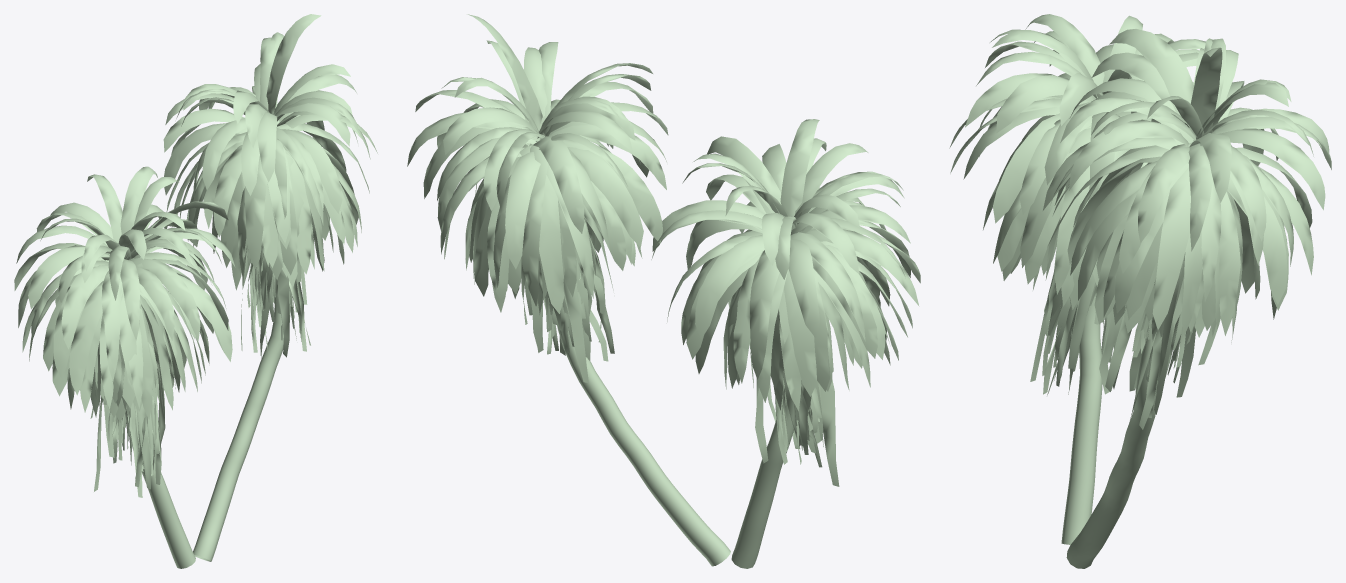
The model's file is palmeras.glb.
3 views of the same model, side by side, from view 1: azimuth 30°, elevation 25°; view 2: azimuth 150°, elevation 25°; view 3: azimuth 270°, elevation 25° (orthographic). The views are drawn at different scales.
Visible parts, largest first — view 1: Leaf_Diffuse.001, Vine_Glos.001, Bark_Diffuse.001; view 2: Leaf_Diffuse.001, Vine_Glos.001, Bark_Diffuse.001; view 3: Leaf_Diffuse.001, Vine_Glos.001, Bark_Diffuse.001.
Boxes of the visible parts, left/top/right/bottom form: Leaf_Diffuse.001: left=14, top=14, right=377, bottom=422; Vine_Glos.001: left=90, top=246, right=310, bottom=497; Bark_Diffuse.001: left=125, top=288, right=290, bottom=568; Leaf_Diffuse.001: left=407, top=14, right=920, bottom=411; Vine_Glos.001: left=521, top=238, right=839, bottom=486; Bark_Diffuse.001: left=540, top=139, right=793, bottom=568; Leaf_Diffuse.001: left=949, top=14, right=1331, bottom=342; Vine_Glos.001: left=1030, top=228, right=1220, bottom=429; Bark_Diffuse.001: left=1061, top=292, right=1156, bottom=568.
Size of the model in its own units: 3.61 by 4.28 by 2.4.
